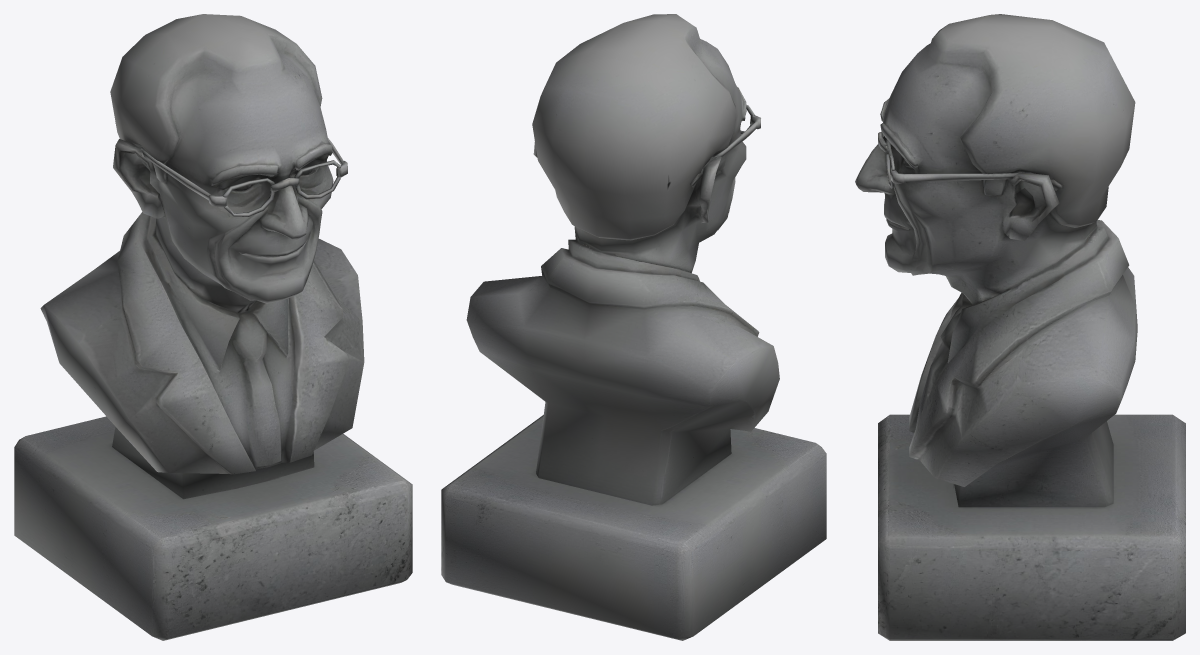
File: selected.glb
3 views of the same model, side by side, from view 1: azimuth 30°, elevation 25°; view 2: azimuth 150°, elevation 25°; view 3: azimuth 270°, elevation 25° (orthographic). The views are drawn at different scales.
Visible parts, largest first — view 1: tripo_node_34c0d119-6291-451c-8042-fbe8951b55b9; view 2: tripo_node_34c0d119-6291-451c-8042-fbe8951b55b9; view 3: tripo_node_34c0d119-6291-451c-8042-fbe8951b55b9.
Part boxes in pixels (left/top/right/bottom): tripo_node_34c0d119-6291-451c-8042-fbe8951b55b9: left=14, top=14, right=412, bottom=640; tripo_node_34c0d119-6291-451c-8042-fbe8951b55b9: left=441, top=14, right=826, bottom=640; tripo_node_34c0d119-6291-451c-8042-fbe8951b55b9: left=855, top=14, right=1185, bottom=640.
Bounding box in the file's own units: 0.5449 × 0.998 × 0.5371.
1 material, 1 textured.
